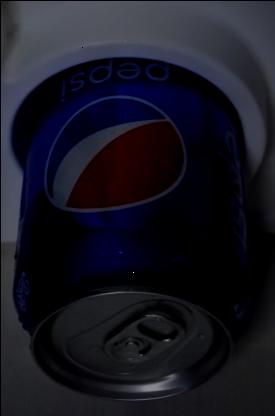Can: (11, 55, 258, 398)
